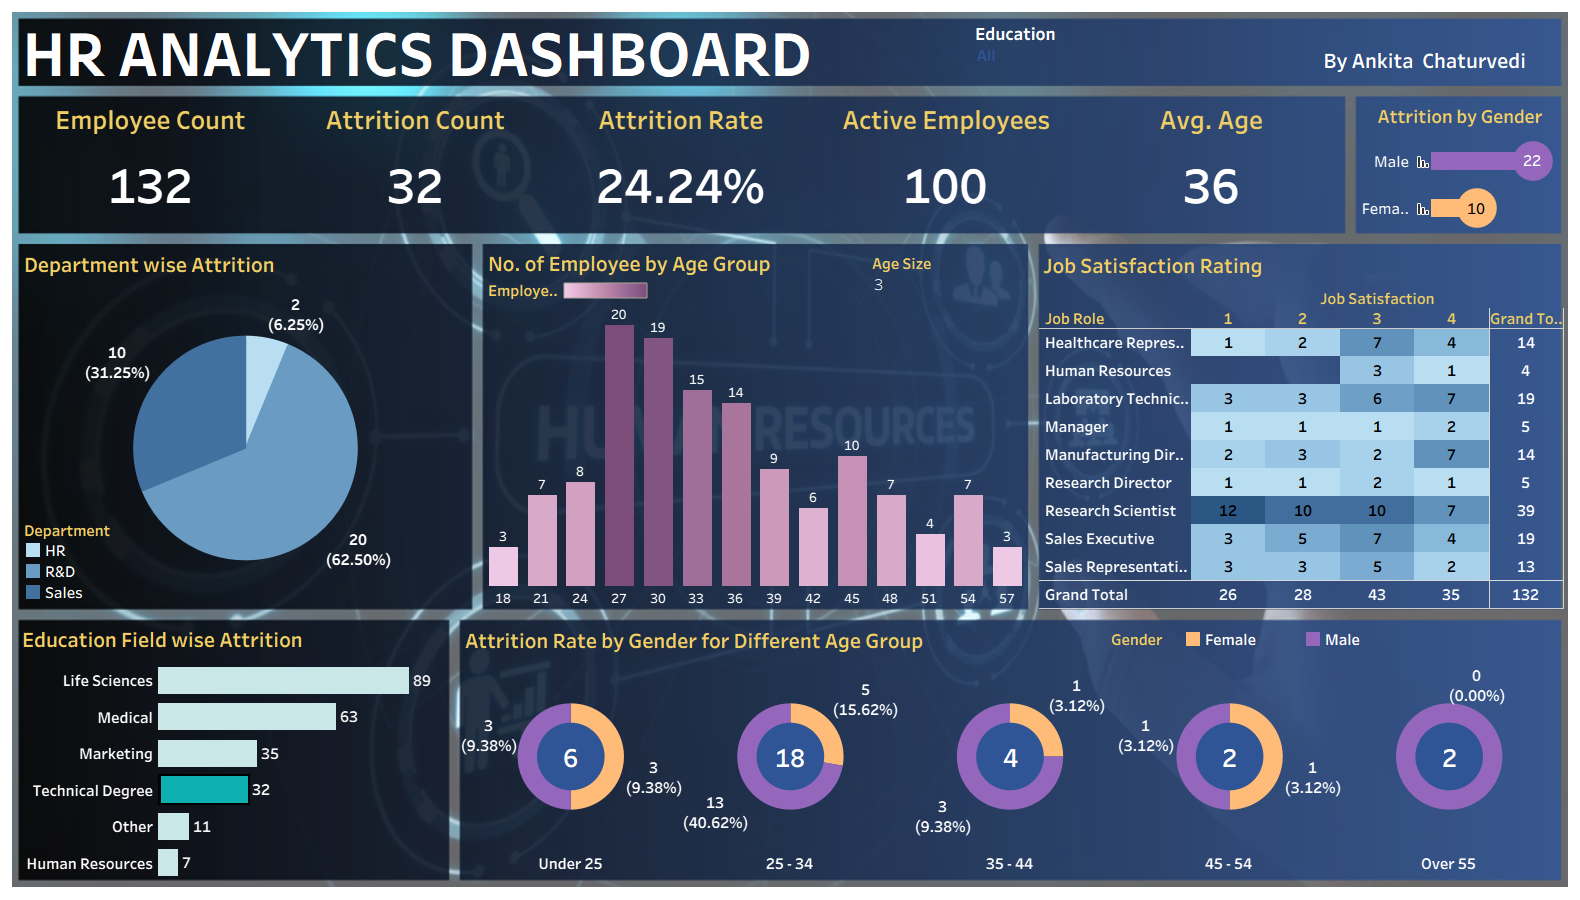

The page's visual inventory and layout, read from the dashboard file:
{"tool":"tableau","page":{"name":"HR Dashboard ","canvas":[1580,900],"ordinal":0},"visuals":[{"type":"image","param":"Image/HR background.pptx.png","box":[8,8,1564,884]},{"type":"text","box":[19,19,1028,65]},{"type":"filter","title":"Department wise Attrition","param":"[federated.0f0h03p1it3gvo176rhln1y1tx4v].[none:Education:nk]","box":[975,21,231,62]},{"type":"text","box":[1336,53,222,30]},{"type":"worksheet","title":"Attrition by Gender","mark":"Automatic","rows":["Gender"],"cols":["Calculation_231935388807032832","Calculation_231935388807032832"],"box":[1345,93,216,139]},{"type":"worksheet","title":"KPI","mark":"Automatic","box":[18,96,1326,136]},{"type":"worksheet","title":"No. of Employee by Age Group","mark":"Automatic","rows":["Employee Count"],"cols":["Age (bin)"],"box":[484,243,543,365]},{"type":"worksheet","title":"Department wise Attrition","mark":"Pie","box":[20,244,451,365]},{"type":"worksheet","title":"Job Satisfaction Rating","mark":"Square","rows":["Job Role"],"cols":["Job Satisfaction"],"box":[1039,245,525,364]},{"type":"parameter","param":"[Parameters].[Age Parameter]","box":[872,252,155,49]},{"type":"legend","title":"No. of Employee by Age Group","param":"[federated.0f0h03p1it3gvo176rhln1y1tx4v].[sum:Employee Count:qk]","box":[488,279,164,24]},{"type":"legend","title":"Department wise Attrition","param":"[federated.0f0h03p1it3gvo176rhln1y1tx4v].[none:Department:nk]","box":[23,518,140,85]},{"type":"worksheet","title":"Education Field wise Attrition","mark":"Automatic","rows":["Education Field"],"cols":["Calculation_231935388807032832"],"box":[18,619,431,262]},{"type":"worksheet","title":"Attrition Rate by Gender for Different Age Group","mark":"Pie","rows":["Calculation_1302666200262176769","Calculation_1302666200262176769"],"cols":["CF_age band"],"box":[461,620,1098,255]},{"type":"legend","title":"Attrition Rate by Gender for Different Age Group","param":"[federated.0f0h03p1it3gvo176rhln1y1tx4v].[none:Gender:nk]","box":[1111,629,381,31]}]}

Visuals, with their boxes in screenshot pixels (x1, y1, x2, y2), scaled from the page's 1580x900 canvas onto the 1580x900 screenshot:
image: <box>8,8,1572,892</box>
text: <box>19,19,1047,84</box>
"Department wise Attrition" filter: <box>975,21,1206,83</box>
text: <box>1336,53,1558,83</box>
"Attrition by Gender" worksheet: <box>1345,93,1561,232</box>
"KPI" worksheet: <box>18,96,1344,232</box>
"No. of Employee by Age Group" worksheet: <box>484,243,1027,608</box>
"Department wise Attrition" worksheet (Pie marks): <box>20,244,471,609</box>
"Job Satisfaction Rating" worksheet (Square marks): <box>1039,245,1564,609</box>
parameter: <box>872,252,1027,301</box>
"No. of Employee by Age Group" legend: <box>488,279,652,303</box>
"Department wise Attrition" legend: <box>23,518,163,603</box>
"Education Field wise Attrition" worksheet: <box>18,619,449,881</box>
"Attrition Rate by Gender for Different Age Group" worksheet (Pie marks): <box>461,620,1559,875</box>
"Attrition Rate by Gender for Different Age Group" legend: <box>1111,629,1492,660</box>
